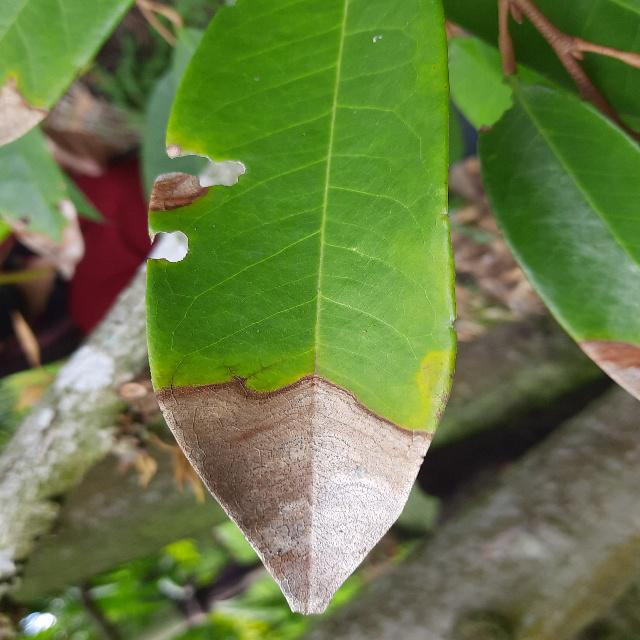Leaf Blight: (135, 0, 459, 620)
